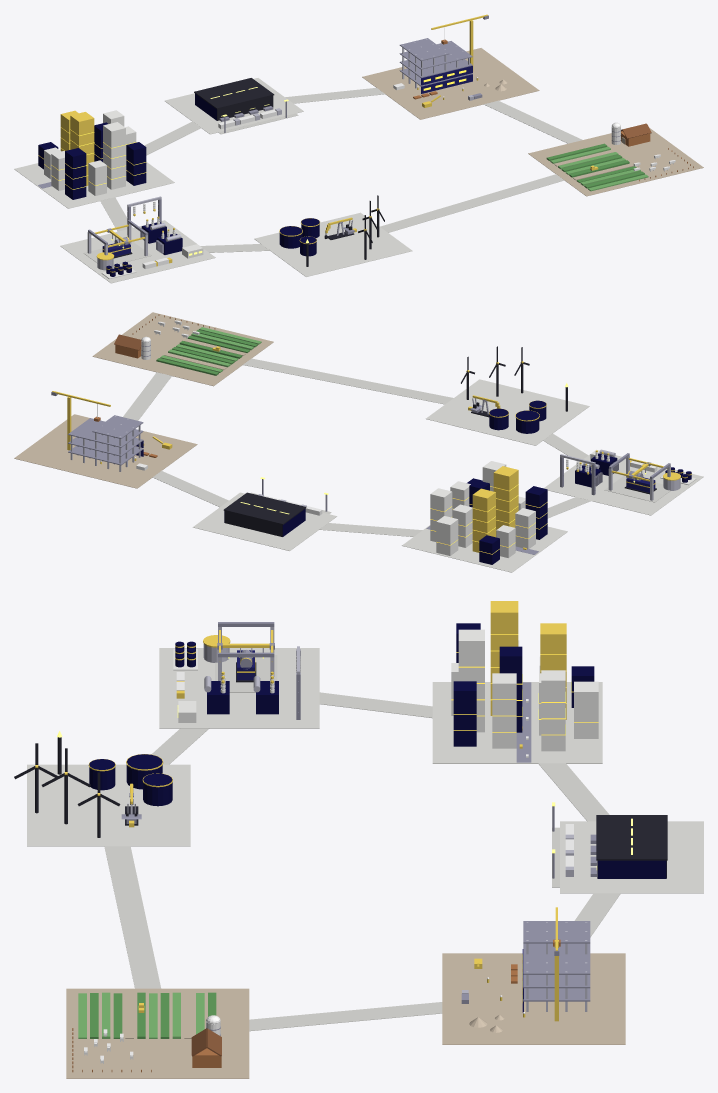
The model's file is nomad-scene.glb.
3 renders of one model, top to bottom at view 1: azimuth 30°, elevation 25°; view 2: azimuth 150°, elevation 25°; view 3: azimuth 270°, elevation 25°, orthographic. The views are drawn at different scales.
Parts seen in each view (by area): view 1: apron.engineering, apron.energy, apron.agriculture, apron.cleaning, apron.business, apron.ict, road.3, wh.roof.slab, tower.02, tower.05, tower.00, road.2 (+14 smaller); view 2: apron.engineering, apron.energy, apron.agriculture, apron.cleaning, apron.ict, apron.business, road.3, wh.roof.slab, tower.05, tower.09, road.2, tower.00 (+17 smaller); view 3: apron.engineering, apron.agriculture, apron.energy, apron.cleaning, apron.business, apron.ict, road.3, wh.roof.slab, road.2, tower.11, cn.slab.2, tower.07 (+19 smaller).
Boxes of the visible parts, x1=… form: apron.engineering: x1=362, y1=48, x2=539, y2=119; apron.energy: x1=254, y1=212, x2=412, y2=276; apron.agriculture: x1=528, y1=127, x2=703, y2=196; apron.cleaning: x1=60, y1=220, x2=215, y2=283; apron.business: x1=14, y1=162, x2=174, y2=208; apron.ict: x1=164, y1=78, x2=303, y2=134; road.3: x1=380, y1=174, x2=564, y2=232; wh.roof.slab: x1=194, y1=78, x2=274, y2=108; tower.02: x1=103, y1=122, x2=125, y2=189; tower.05: x1=70, y1=112, x2=94, y2=185; tower.00: x1=65, y1=148, x2=86, y2=199; road.2: x1=484, y1=100, x2=582, y2=143; apron.engineering: x1=14, y1=414, x2=197, y2=488; apron.energy: x1=426, y1=379, x2=589, y2=445; apron.agriculture: x1=92, y1=312, x2=273, y2=386; apron.cleaning: x1=544, y1=454, x2=703, y2=515; apron.ict: x1=193, y1=492, x2=336, y2=550; apron.business: x1=402, y1=525, x2=567, y2=572; road.3: x1=243, y1=358, x2=453, y2=404; wh.roof.slab: x1=223, y1=492, x2=306, y2=524; tower.05: x1=493, y1=466, x2=518, y2=536; tower.09: x1=472, y1=488, x2=495, y2=552; road.2: x1=123, y1=372, x2=171, y2=420; tower.00: x1=525, y1=486, x2=547, y2=539; apron.engineering: x1=442, y1=953, x2=625, y2=1044; apron.agriculture: x1=66, y1=988, x2=249, y2=1078; apron.energy: x1=27, y1=764, x2=190, y2=846; apron.cleaning: x1=159, y1=648, x2=319, y2=728; apron.business: x1=432, y1=682, x2=602, y2=763; apron.ict: x1=560, y1=821, x2=703, y2=893; road.3: x1=104, y1=846, x2=161, y2=988; wh.roof.slab: x1=596, y1=815, x2=667, y2=860; road.2: x1=249, y1=1002, x2=442, y2=1031; tower.11: x1=541, y1=670, x2=565, y2=751; cn.slab.2: x1=523, y1=943, x2=590, y2=974; tower.07: x1=492, y1=673, x2=516, y2=748.
Size of what is drawn, in the model's own units: 623 by 70.65 by 422.
